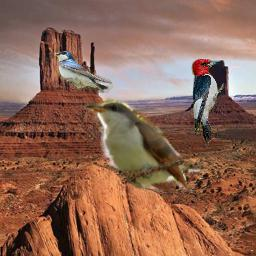Cuckoo: (81, 92, 204, 193)
Swallow: (55, 51, 113, 94)
Woodpecker: (190, 59, 227, 148)
